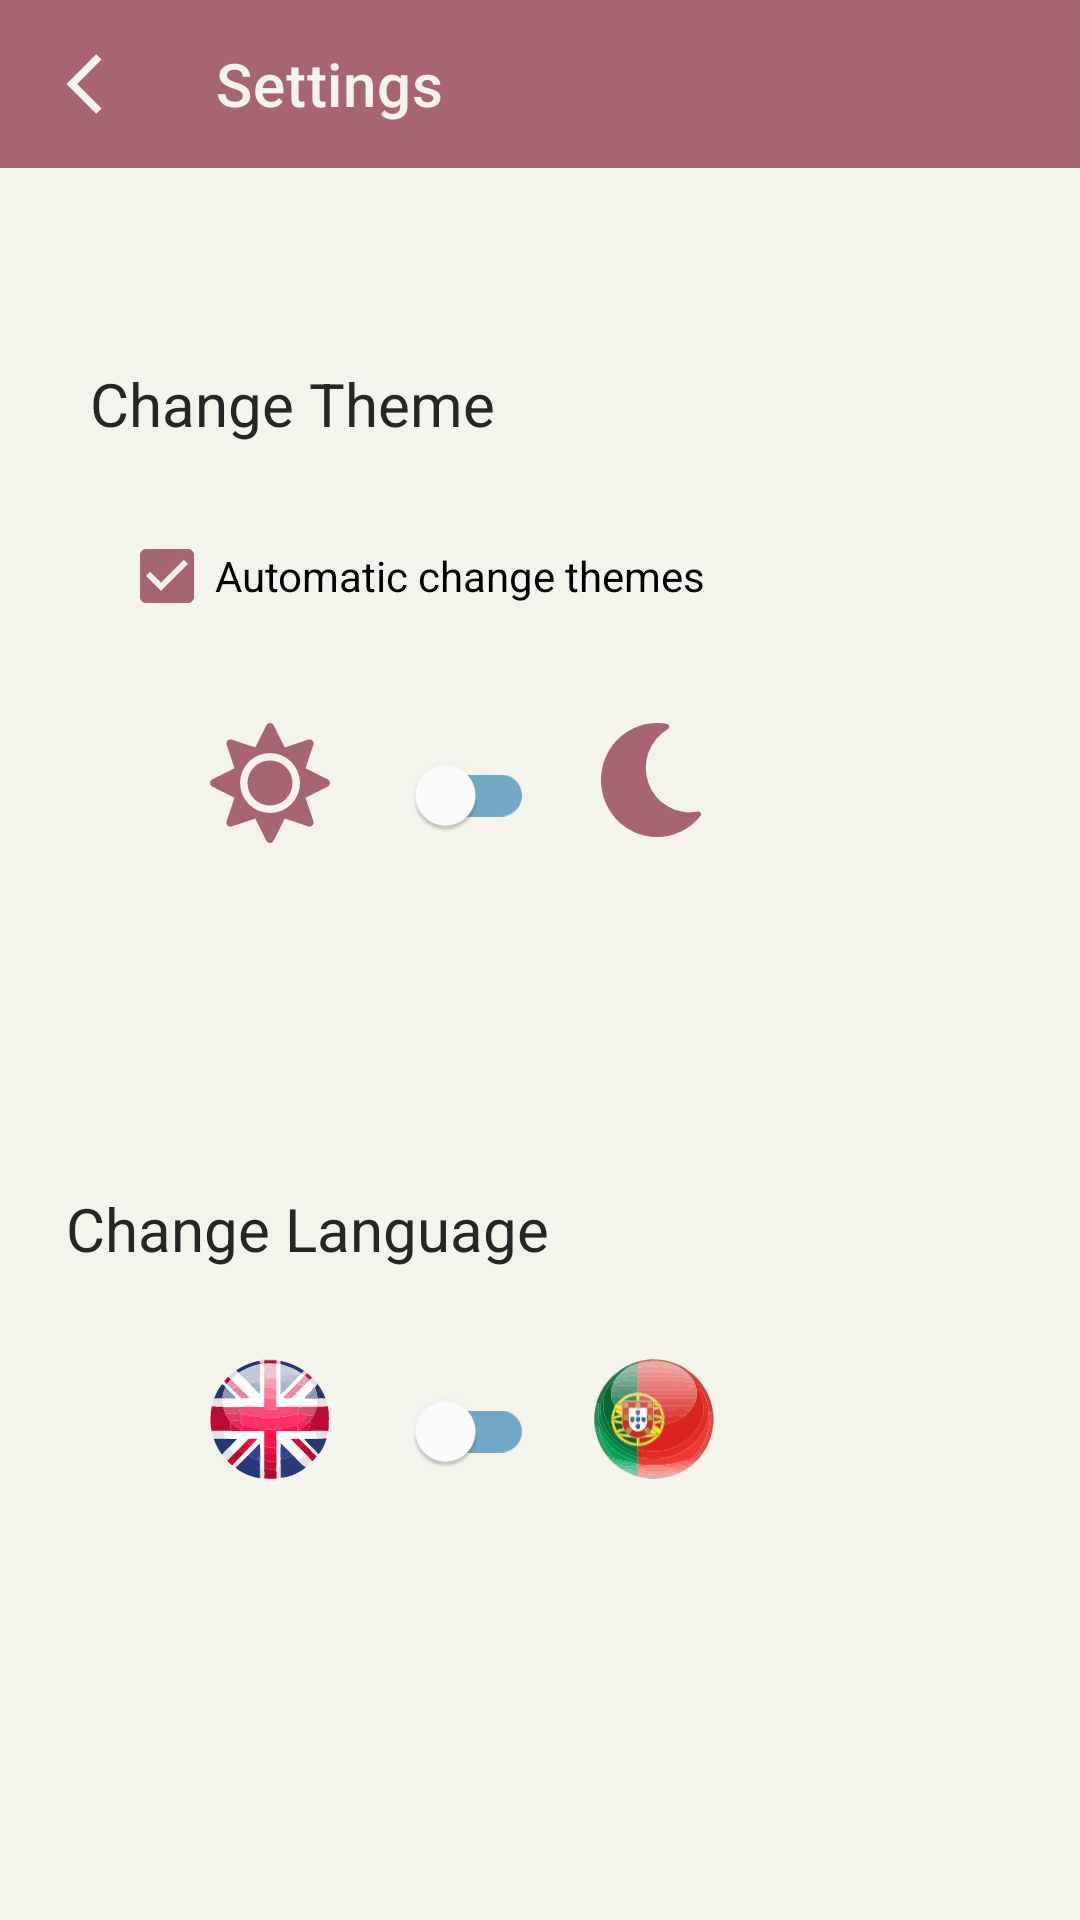

Screen size 1080px x 1920px. Icon name, then its center in pixels as [x,y]:
Dark Icon: [651,780]
Light Icon: [270,783]
Portugal Flag Icon: [654,1419]
UK Flag Icon: [269,1419]
